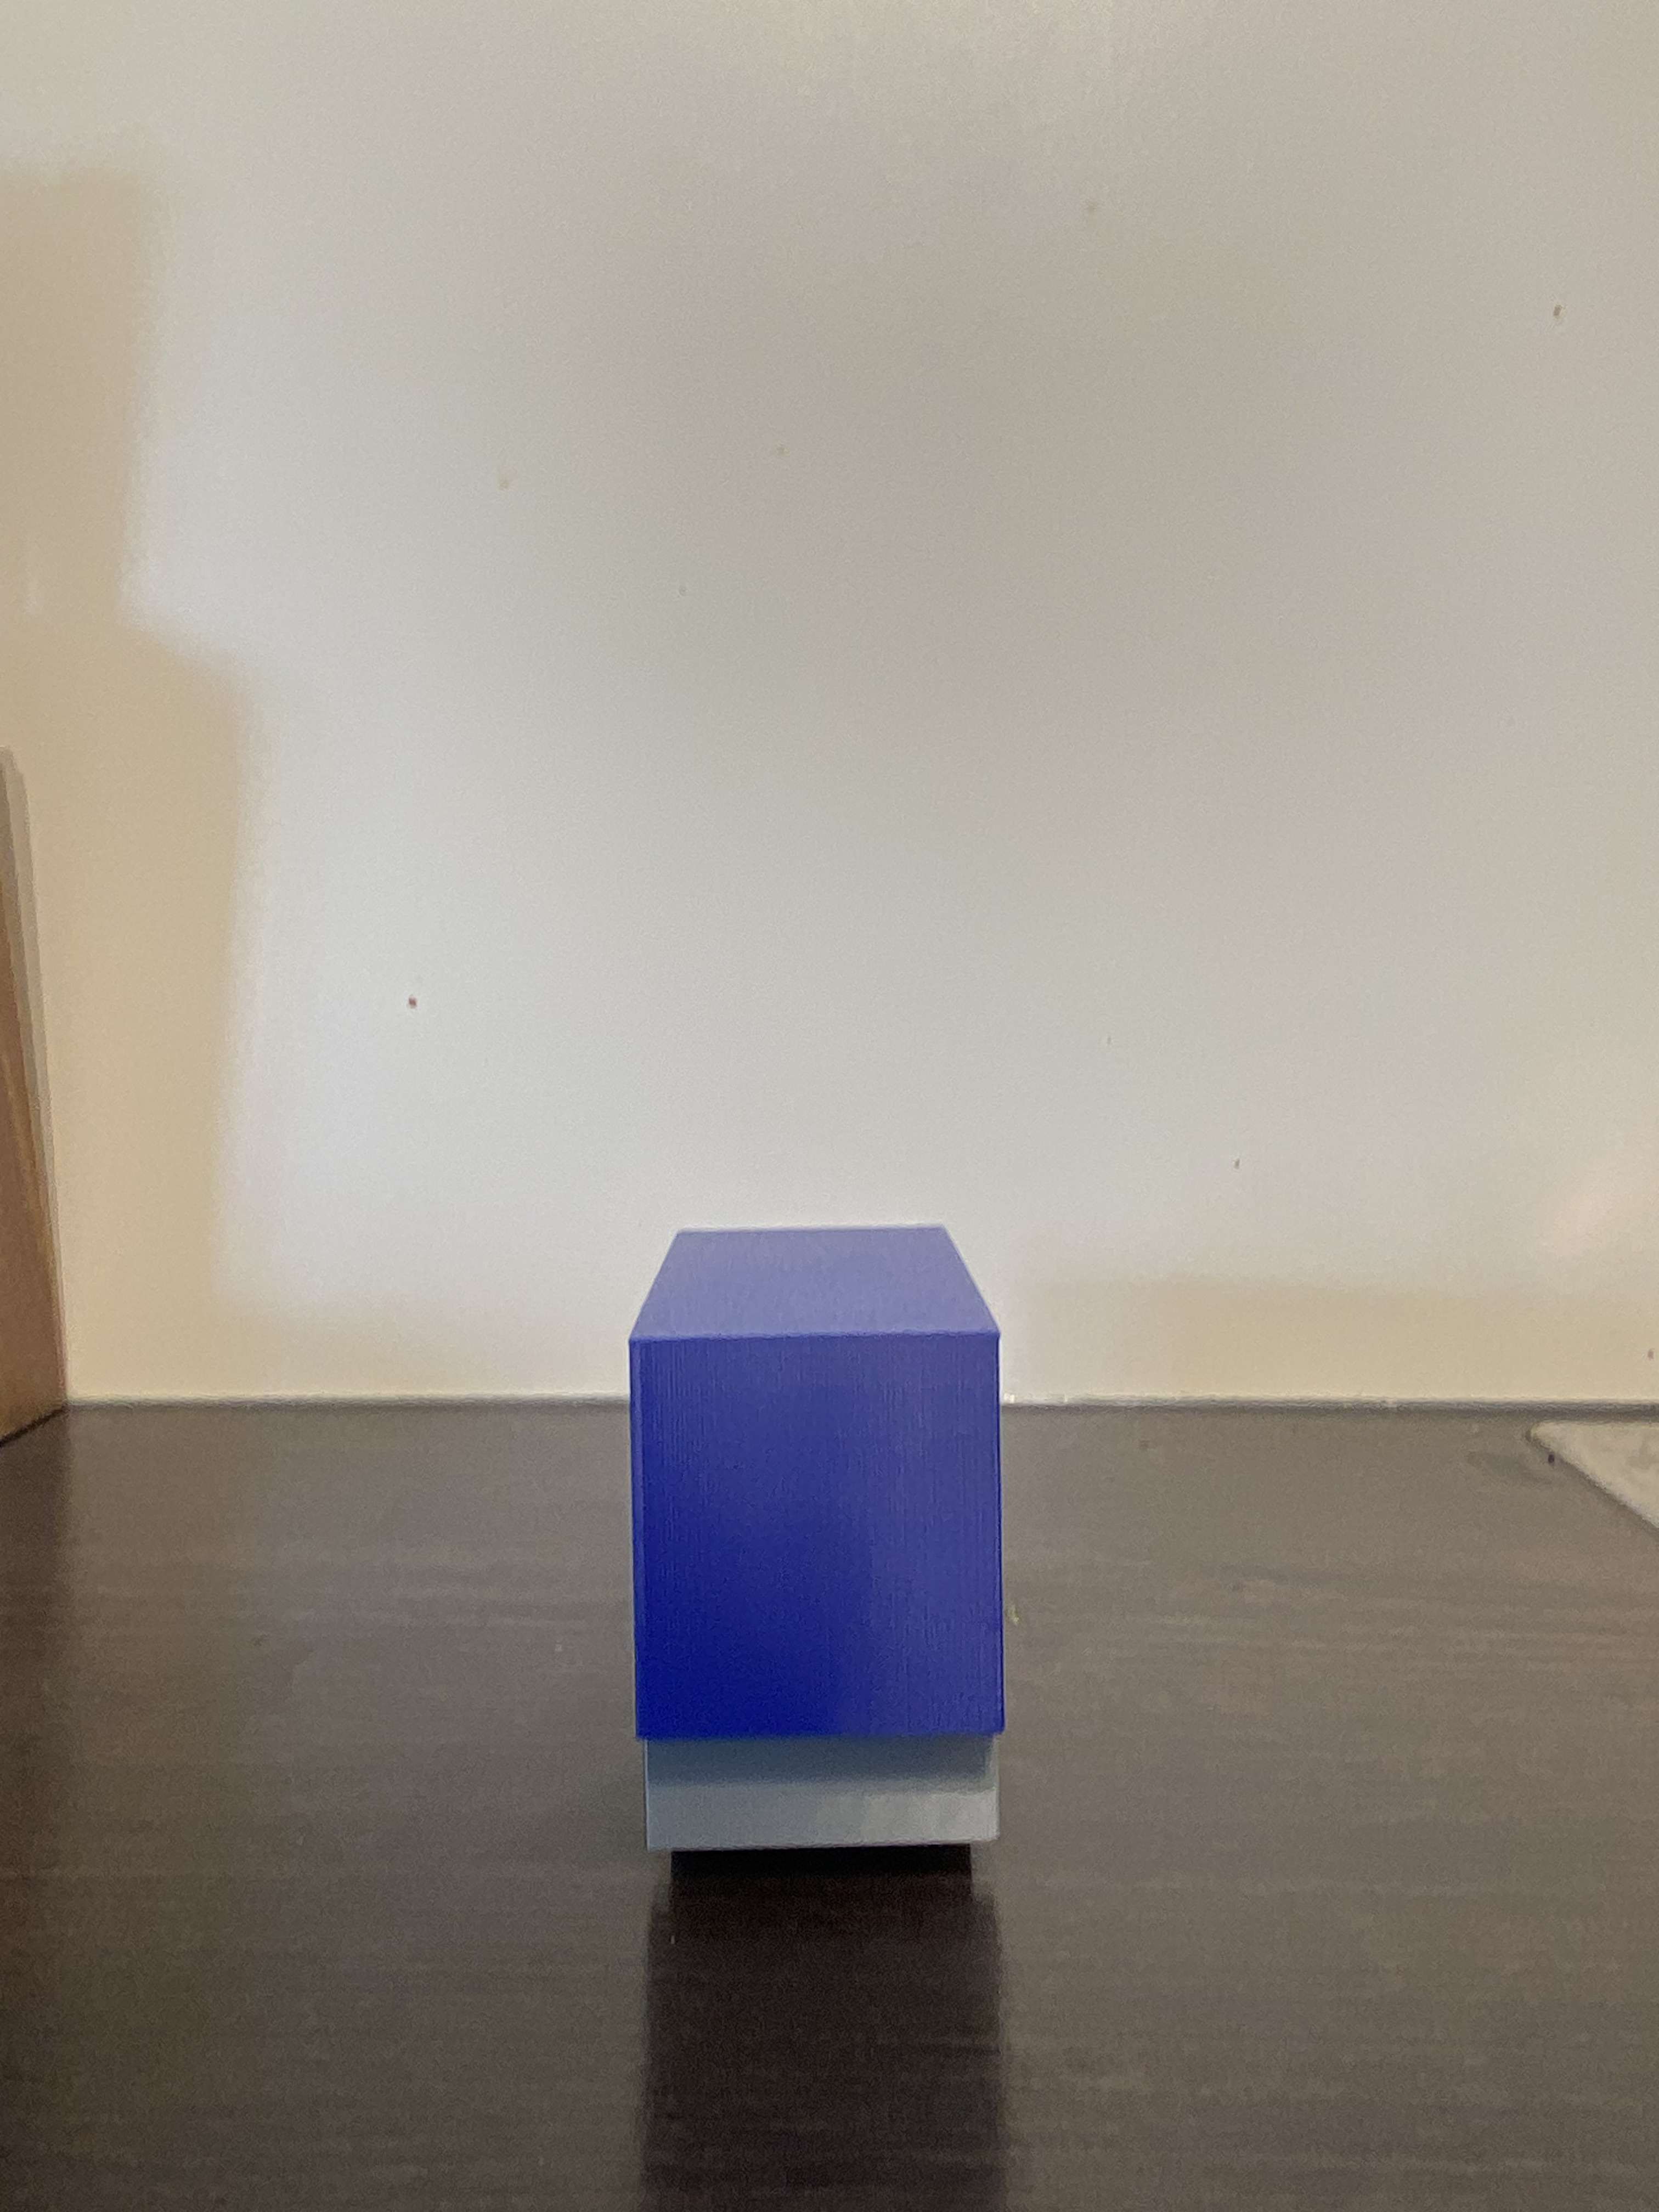blue_truck: (622, 1219, 1012, 1888)
